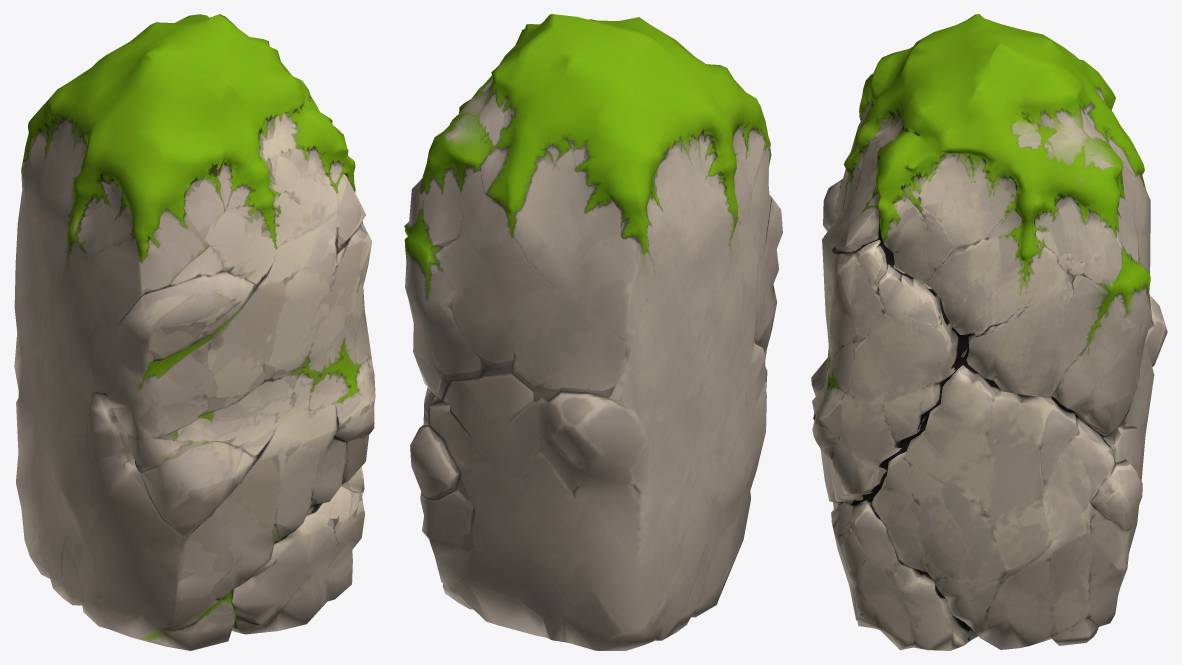
File: CrackedRock.fbx
The picture shows the model from 3 angles, left to right: view 1: azimuth 30°, elevation 25°; view 2: azimuth 150°, elevation 25°; view 3: azimuth 270°, elevation 25°; orthographic projection.
Visible parts, largest first — view 1: CrackedRock; view 2: CrackedRock; view 3: CrackedRock.
Part boxes in pixels (left/top/right/bottom): CrackedRock: left=14, top=14, right=375, bottom=650; CrackedRock: left=404, top=14, right=782, bottom=650; CrackedRock: left=811, top=14, right=1167, bottom=650.
Size of the model in its own units: 0.4992 by 1 by 0.5633.
1 material, 1 textured.
